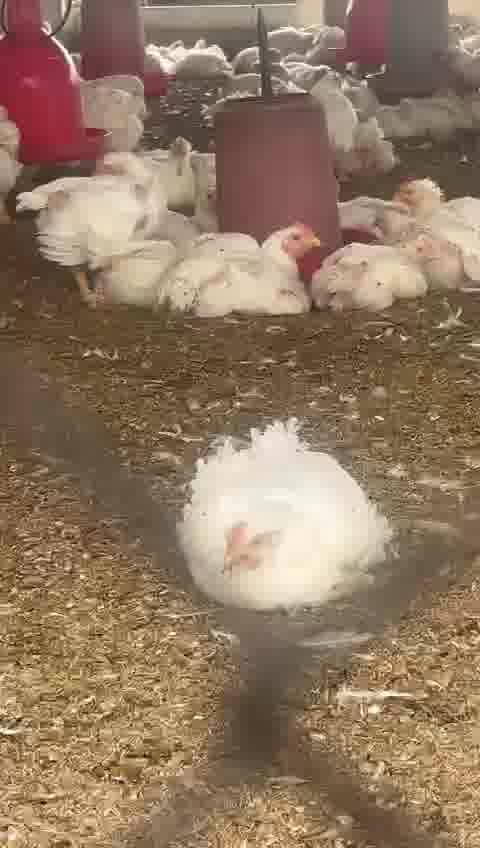AbNormal: (177, 430, 390, 609), (26, 152, 164, 286), (170, 222, 325, 316), (397, 172, 478, 280)
